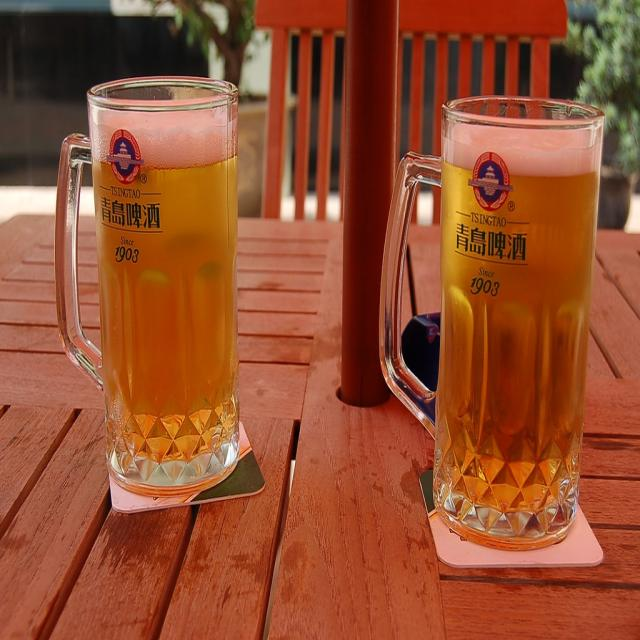tsingtao: (447, 148, 537, 307), (97, 121, 167, 274)
